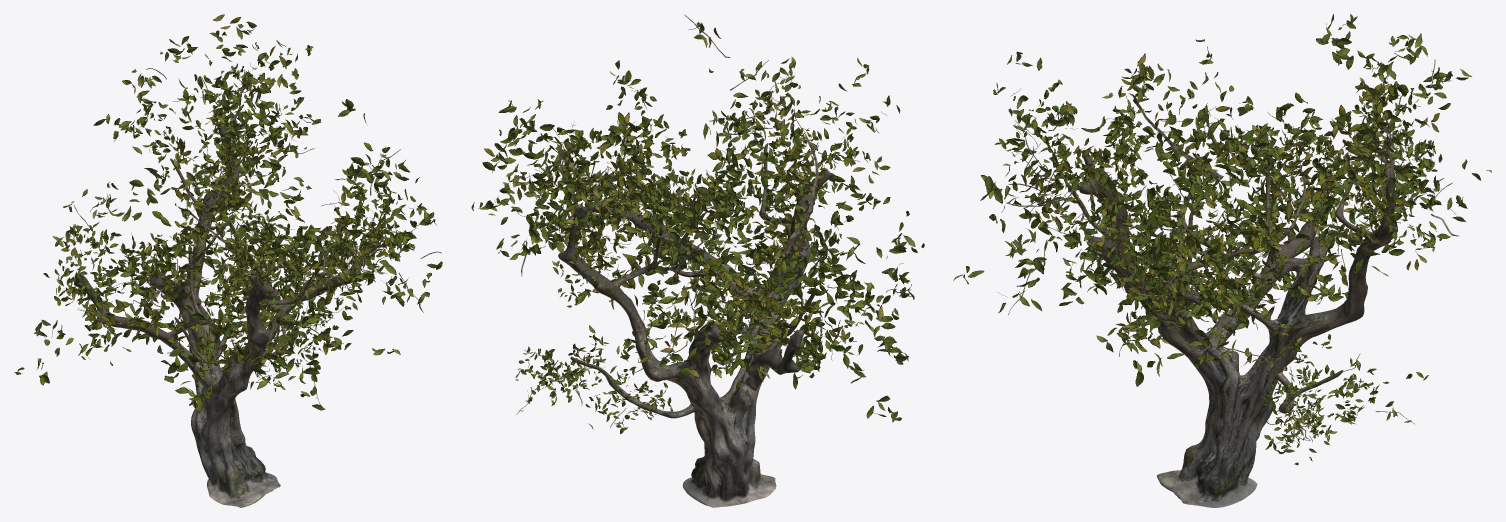
The model's file is island_tree_01_lite.glb.
3 renders of one model, left to right at view 1: azimuth 30°, elevation 25°; view 2: azimuth 150°, elevation 25°; view 3: azimuth 270°, elevation 25°, orthographic. The views are drawn at different scales.
Visible parts, largest first — view 1: island_tree_01_LOD0_5c5560, island_tree_01_LOD0, island_tree_01_LOD0_e2f841; view 2: island_tree_01_LOD0_5c5560, island_tree_01_LOD0, island_tree_01_LOD0_e2f841; view 3: island_tree_01_LOD0_5c5560, island_tree_01_LOD0, island_tree_01_LOD0_e2f841.
Boxes of the visible parts, <box> form: island_tree_01_LOD0_5c5560: <box>14,14,442,412</box>; island_tree_01_LOD0: <box>74,125,380,507</box>; island_tree_01_LOD0_e2f841: <box>38,54,441,405</box>; island_tree_01_LOD0_5c5560: <box>471,22,924,433</box>; island_tree_01_LOD0: <box>558,143,830,507</box>; island_tree_01_LOD0_e2f841: <box>490,14,911,427</box>; island_tree_01_LOD0_5c5560: <box>953,14,1491,465</box>; island_tree_01_LOD0: <box>1067,140,1397,507</box>; island_tree_01_LOD0_e2f841: <box>997,38,1458,448</box>.
Bounding box in the file's own units: 4.73 × 4.98 × 4.83.
Materials: 3 (3 with a texture image).
